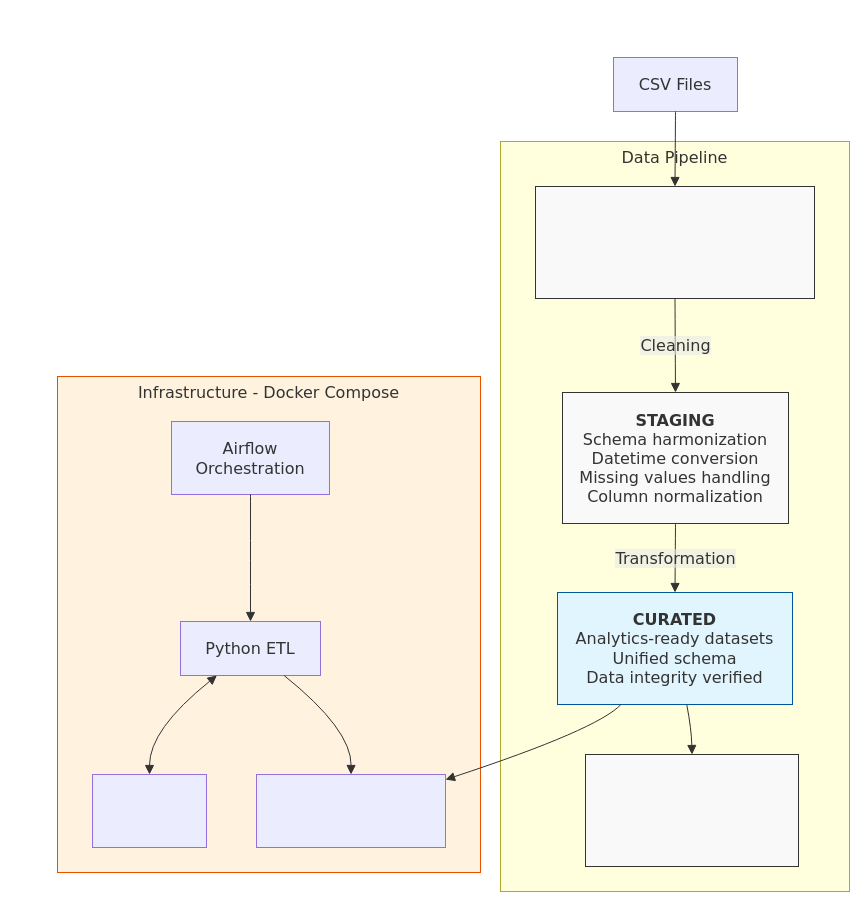
The diagram is 867 pixels wide and 909 high, and some of its shapes have lost their labels. The shapes that lost their labels are listed below. From the top down, each one's centre as x and y in pixels, then its label:
point (674, 242): RAW Original CSV files Immutable One folder per production line
point (149, 811): MinIO Storage
point (351, 811): OpenMetadata Catalog/Metadata
point (691, 810): ARCHIVE Previous raw versions Historical files Long-term retention
